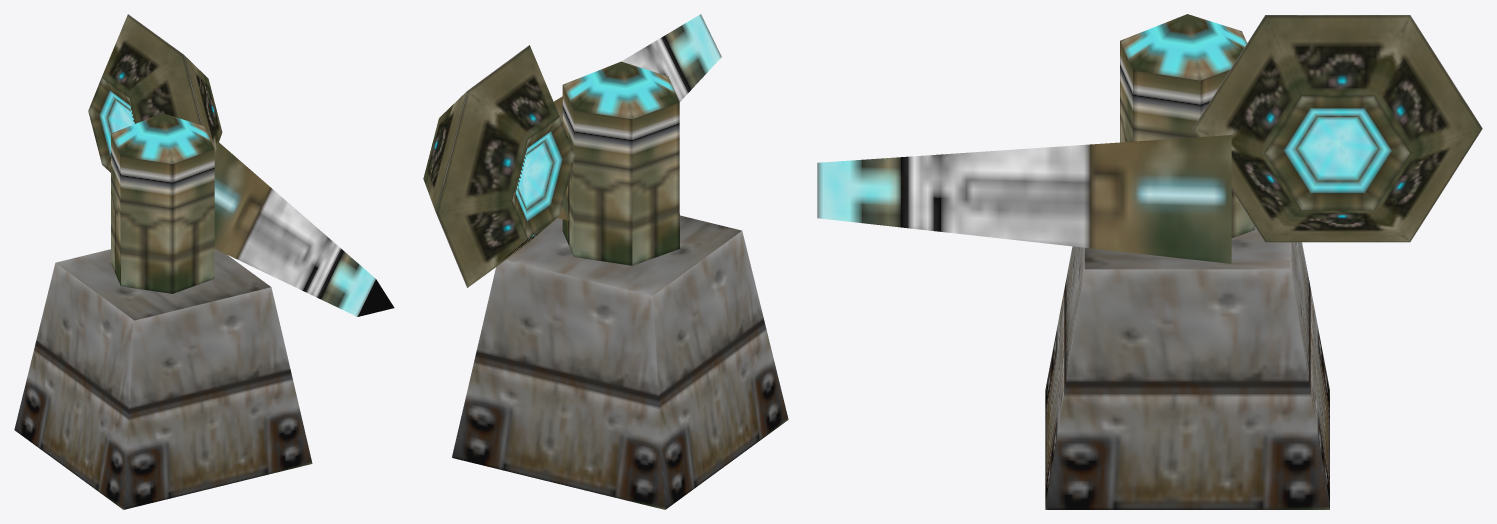
The model's file is gaussturret.glb.
3 views of the same model, side by side, from view 1: azimuth 30°, elevation 25°; view 2: azimuth 150°, elevation 25°; view 3: azimuth 270°, elevation 25° (orthographic). The views are drawn at different scales.
Parts seen in each view (by area): view 1: Base, Turret; view 2: Base, Turret; view 3: Turret, Base.
Boxes of the visible parts, x1,y1,x2,y2 form: Base: [14, 249, 312, 509]; Turret: [88, 14, 394, 316]; Base: [452, 215, 788, 509]; Turret: [423, 14, 721, 287]; Turret: [817, 14, 1482, 263]; Base: [1045, 227, 1329, 509].
Size of the model in its own units: 5.07 by 8.33 by 10.76.
1 material, 1 textured.
